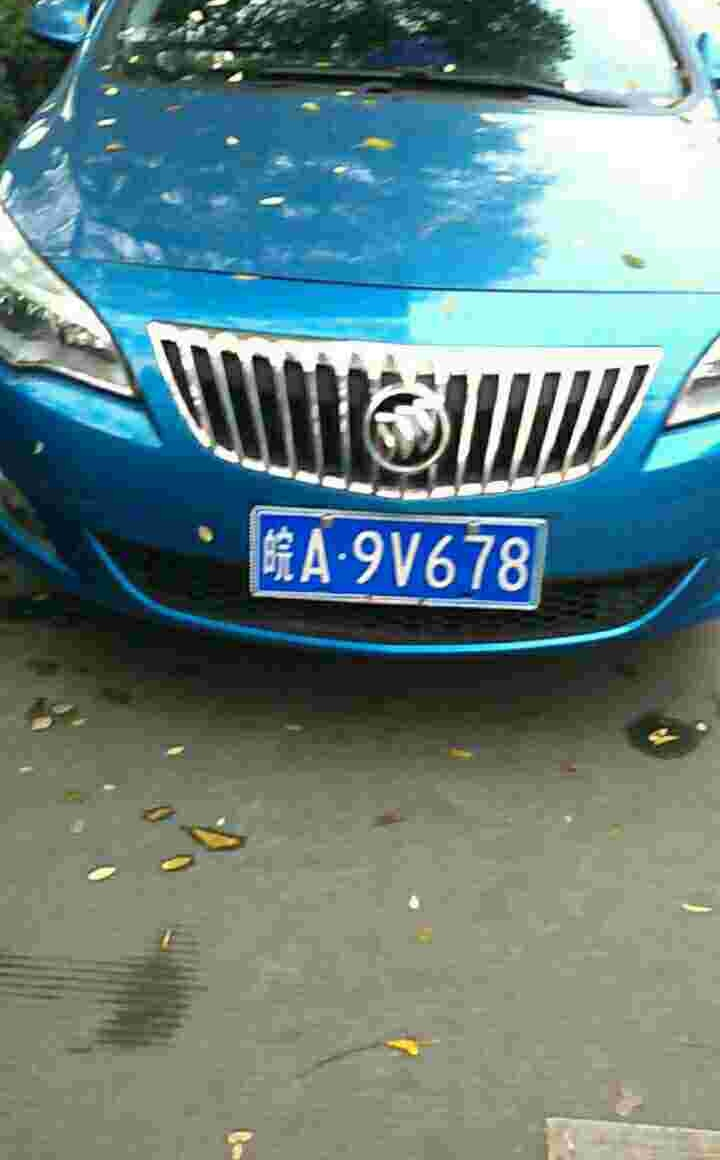license_plate: (253, 519, 536, 601)
